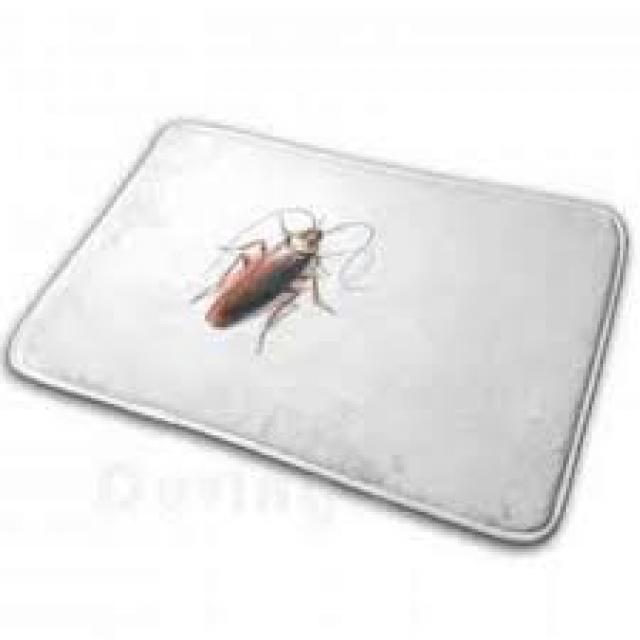Cockroach: (189, 188, 377, 339)
